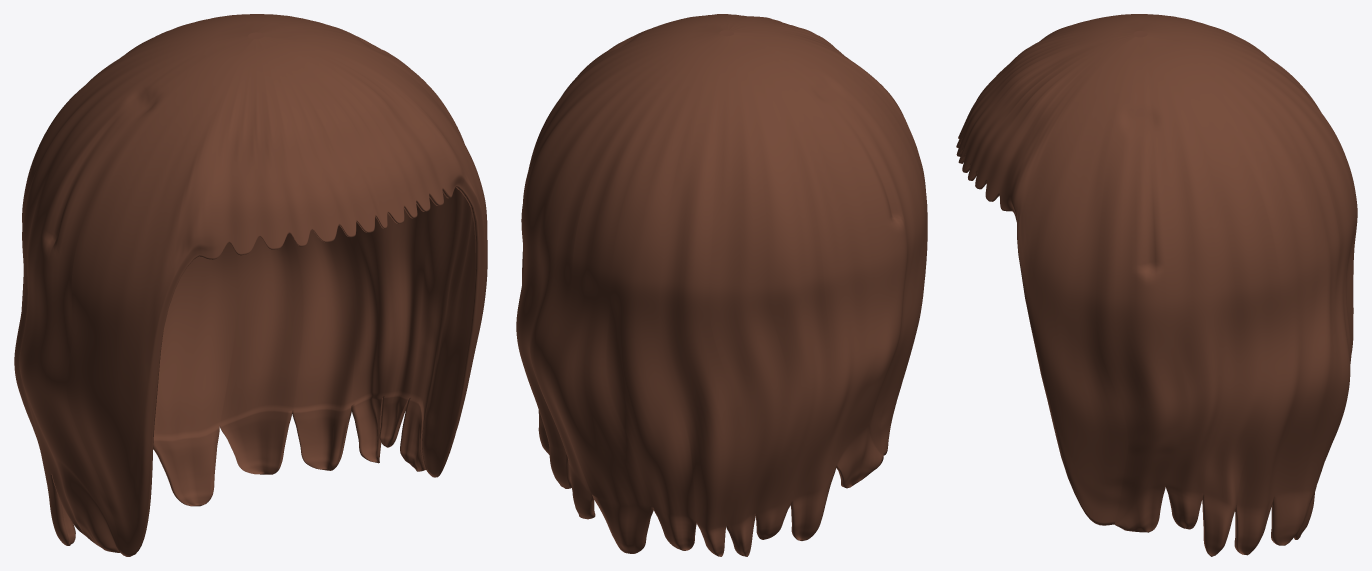
File: long-ears.glb
3 renders of one model, left to right at view 1: azimuth 30°, elevation 25°; view 2: azimuth 150°, elevation 25°; view 3: azimuth 270°, elevation 25°, orthographic. The views are drawn at different scales.
Parts seen in each view (by area): view 1: Hair / rounded long fringe; view 2: Hair / rounded long fringe; view 3: Hair / rounded long fringe.
Boxes of the visible parts, <box> form: Hair / rounded long fringe: <box>14,14,487,556</box>; Hair / rounded long fringe: <box>516,14,927,556</box>; Hair / rounded long fringe: <box>956,14,1357,556</box>.
Bounding box in the file's own units: 0.8534 × 1.06 × 0.7801.
